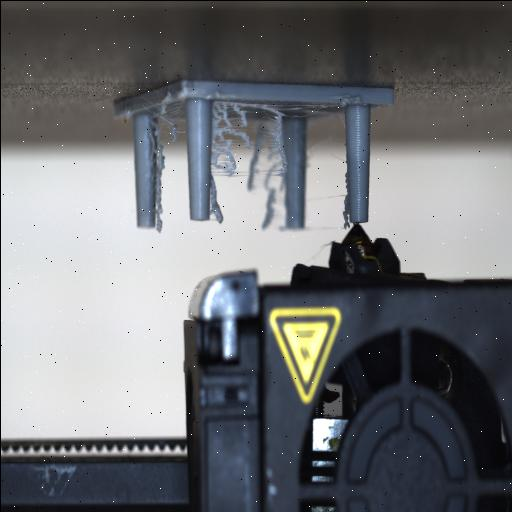stringing: (168, 99, 350, 233)
